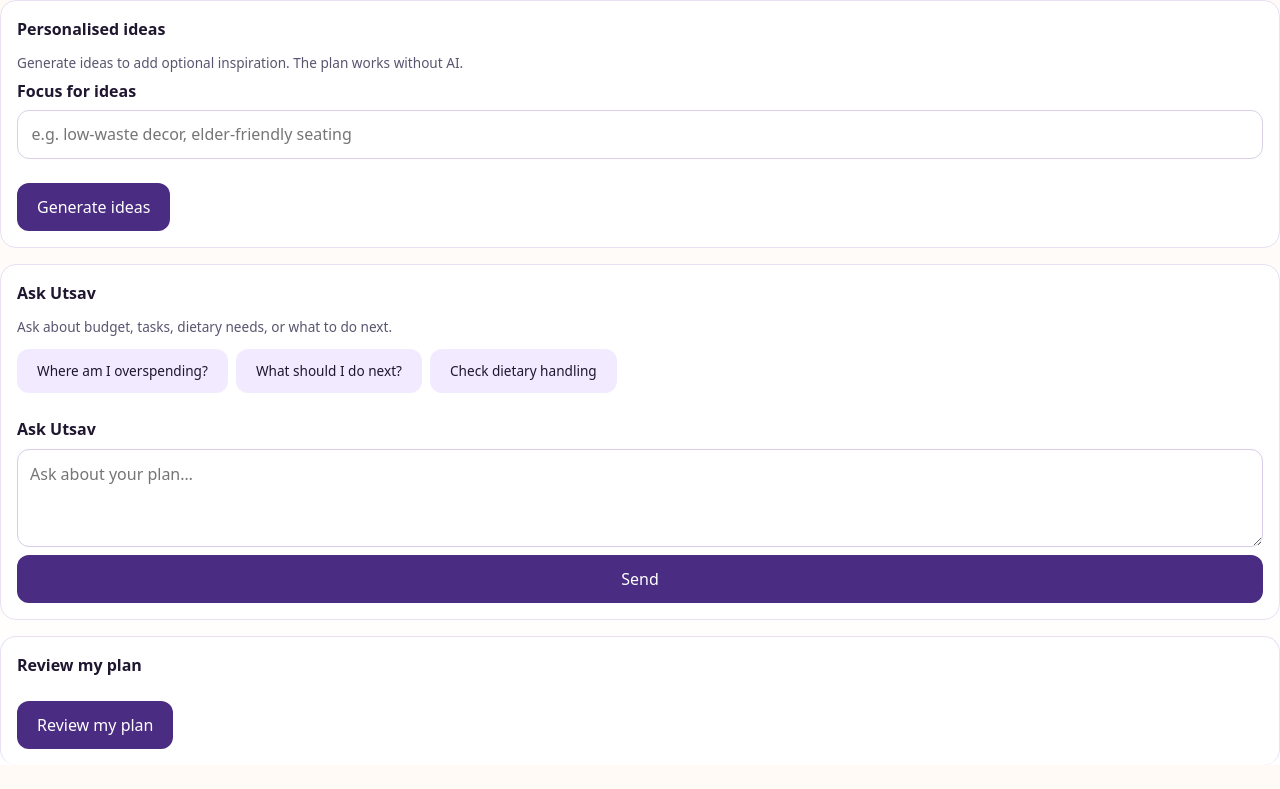
Scenario: AI panel › shows an error when ideas cannot load
Click the button "Generate ideas" at x=94, y=206, box [17,182,170,230]
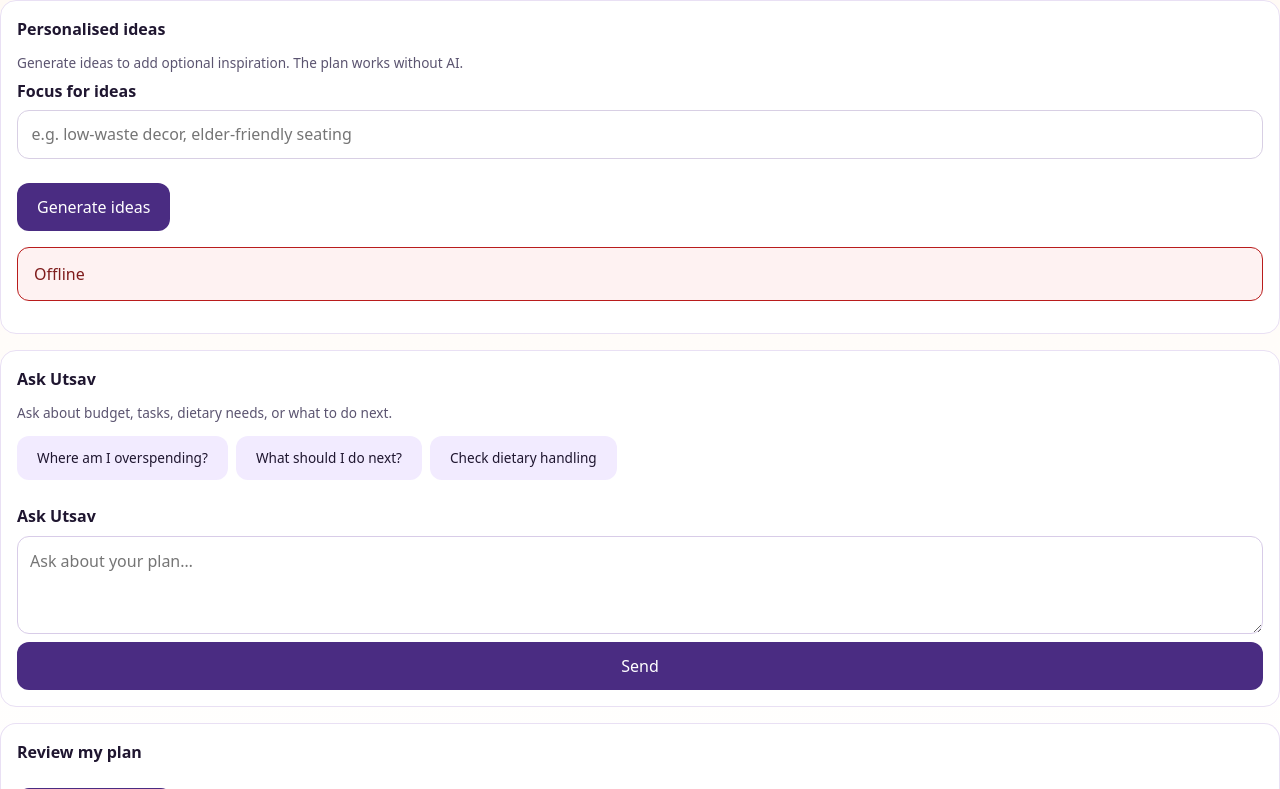
Result: the message reads "Offline" at [34,263,85,285]
